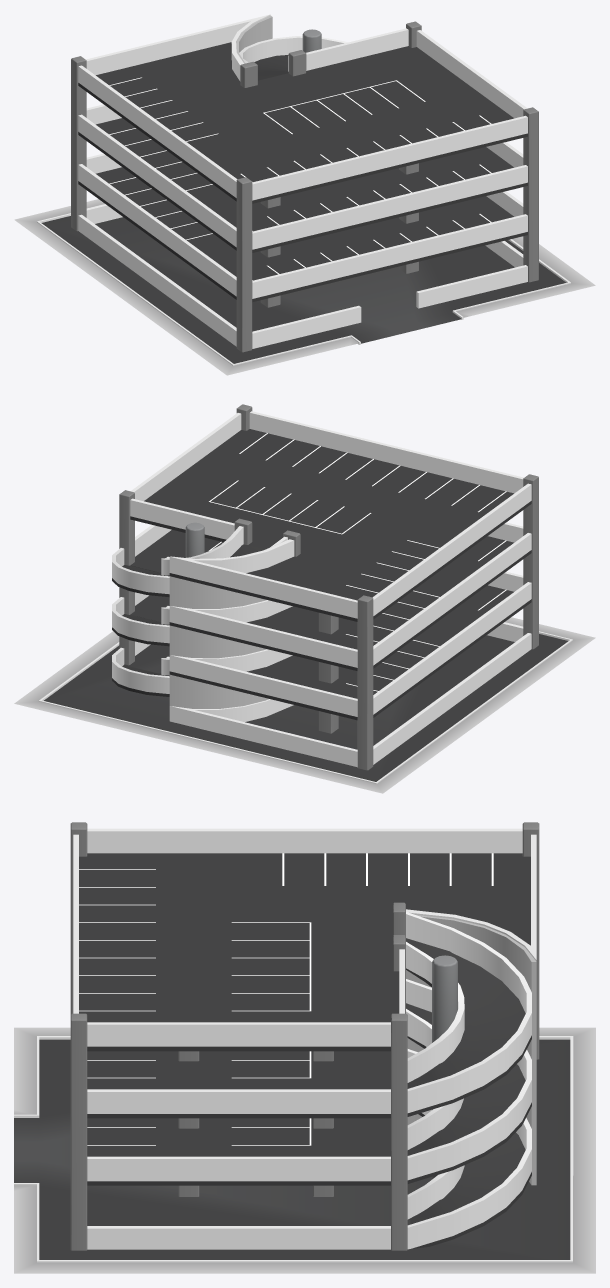
File: parking_005.glb
3 renders of one model, top to bottom at view 1: azimuth 30°, elevation 25°; view 2: azimuth 150°, elevation 25°; view 3: azimuth 270°, elevation 25°, orthographic. The views are drawn at different scales.
Visible parts, largest first — view 1: parking_005; view 2: parking_005; view 3: parking_005.
Part boxes in pixels (bbox=[...]): parking_005: bbox=[14, 14, 595, 375]; parking_005: bbox=[14, 404, 595, 793]; parking_005: bbox=[14, 822, 595, 1273].
Size of the model in its own units: 45 by 20.09 by 45.
Materials: 1 (1 with a texture image).
